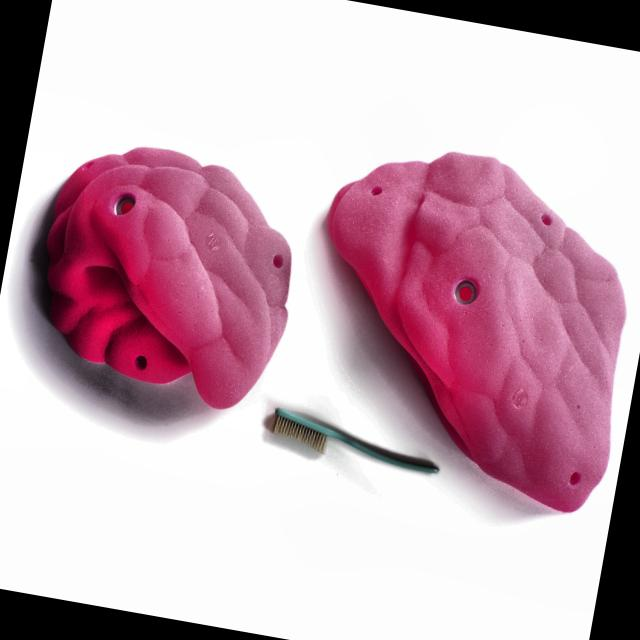Hold: (281, 127, 640, 524), (17, 126, 310, 420)
